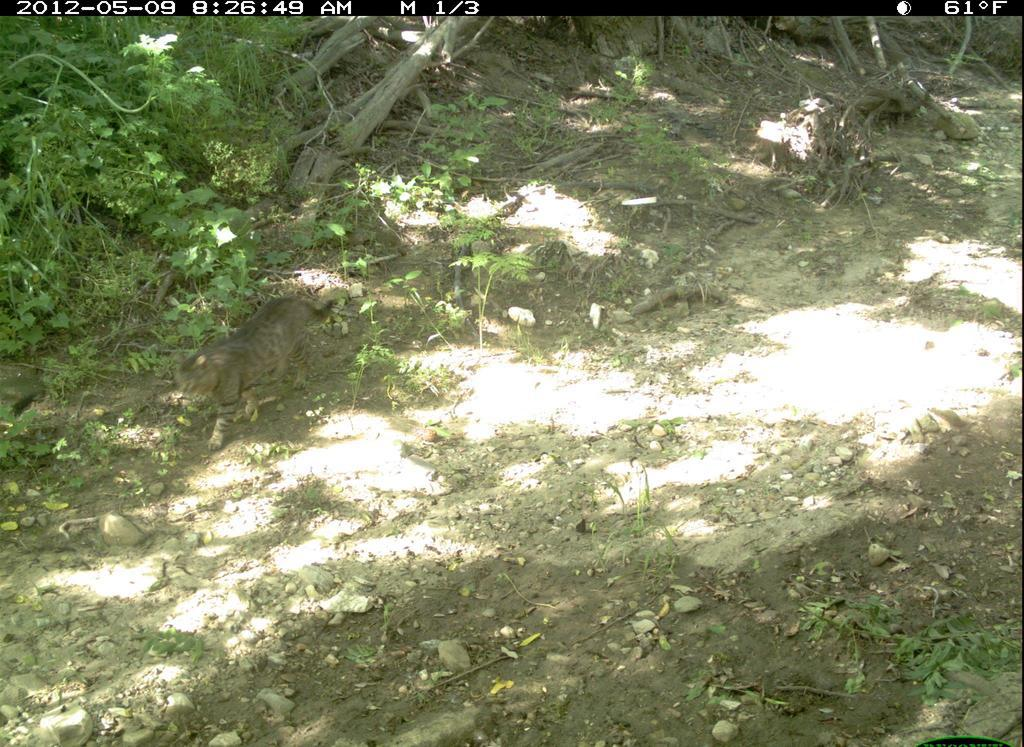cat: (161, 286, 347, 457)
